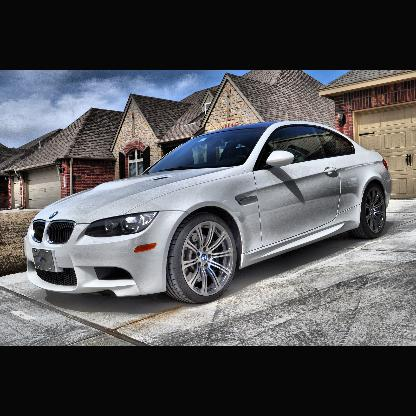BMW M3 Coupe 2012: (25, 121, 394, 308)
